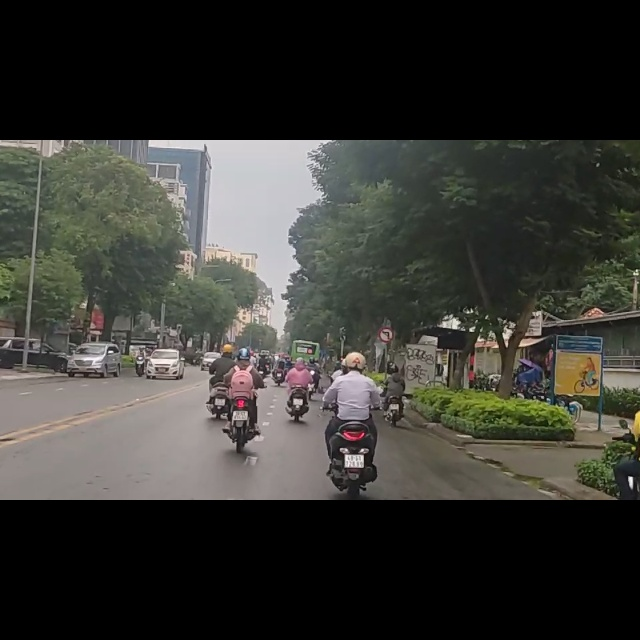bien_cam: (379, 333, 395, 359)
